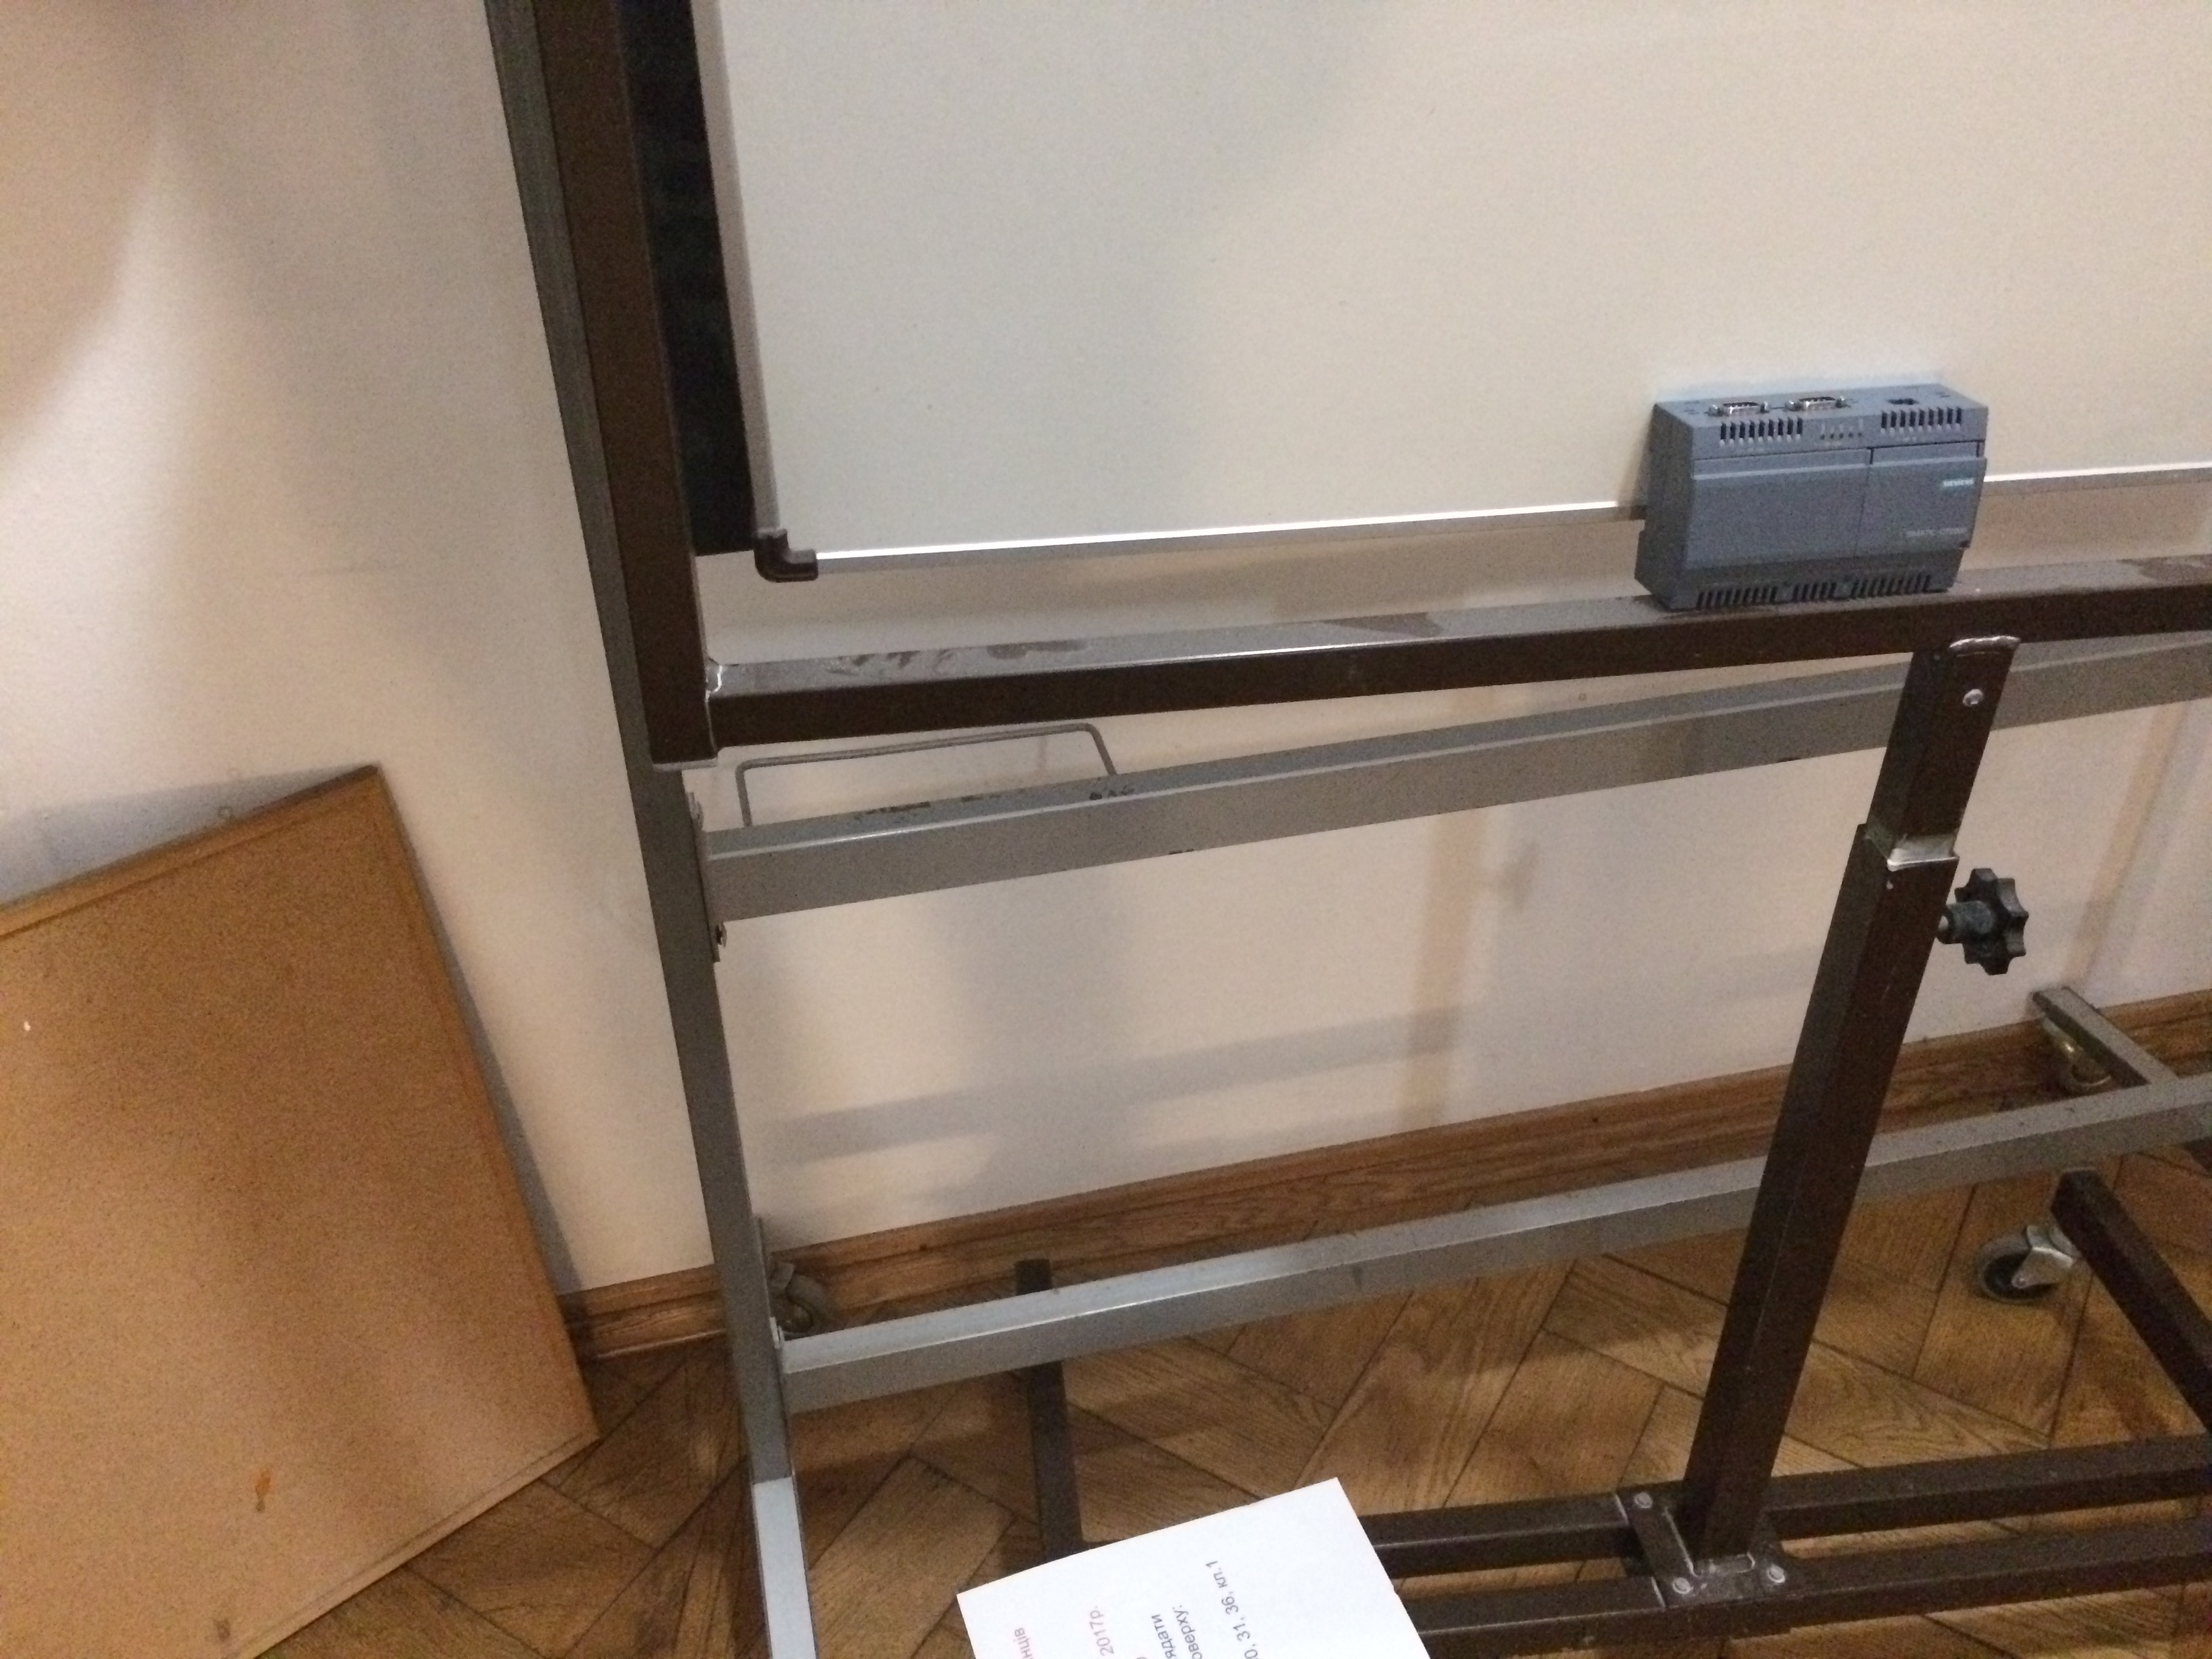iot2000: (1635, 380, 1991, 612)
